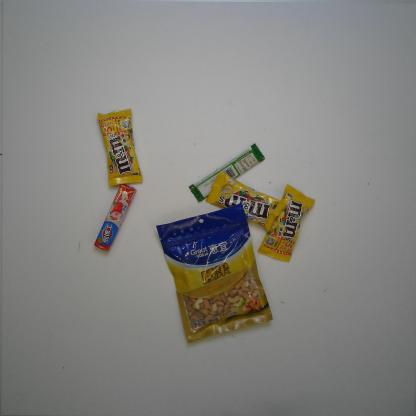Candy: (93, 184, 139, 252)
Chocolate: (203, 171, 288, 233), (255, 182, 315, 265), (187, 143, 266, 204), (96, 107, 143, 188)
Dried Fruit: (155, 203, 273, 345)
